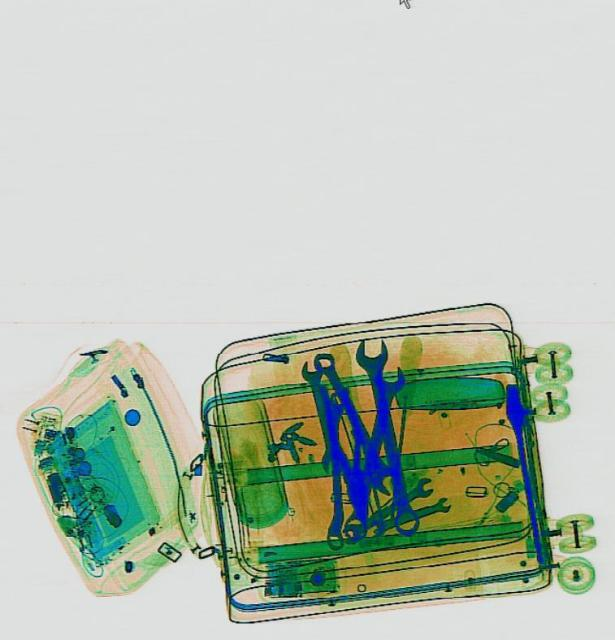Wrench: (350, 337, 429, 537), (303, 344, 404, 498), (343, 360, 406, 492), (337, 474, 437, 546), (296, 358, 351, 472), (365, 494, 451, 540), (324, 392, 344, 550)
